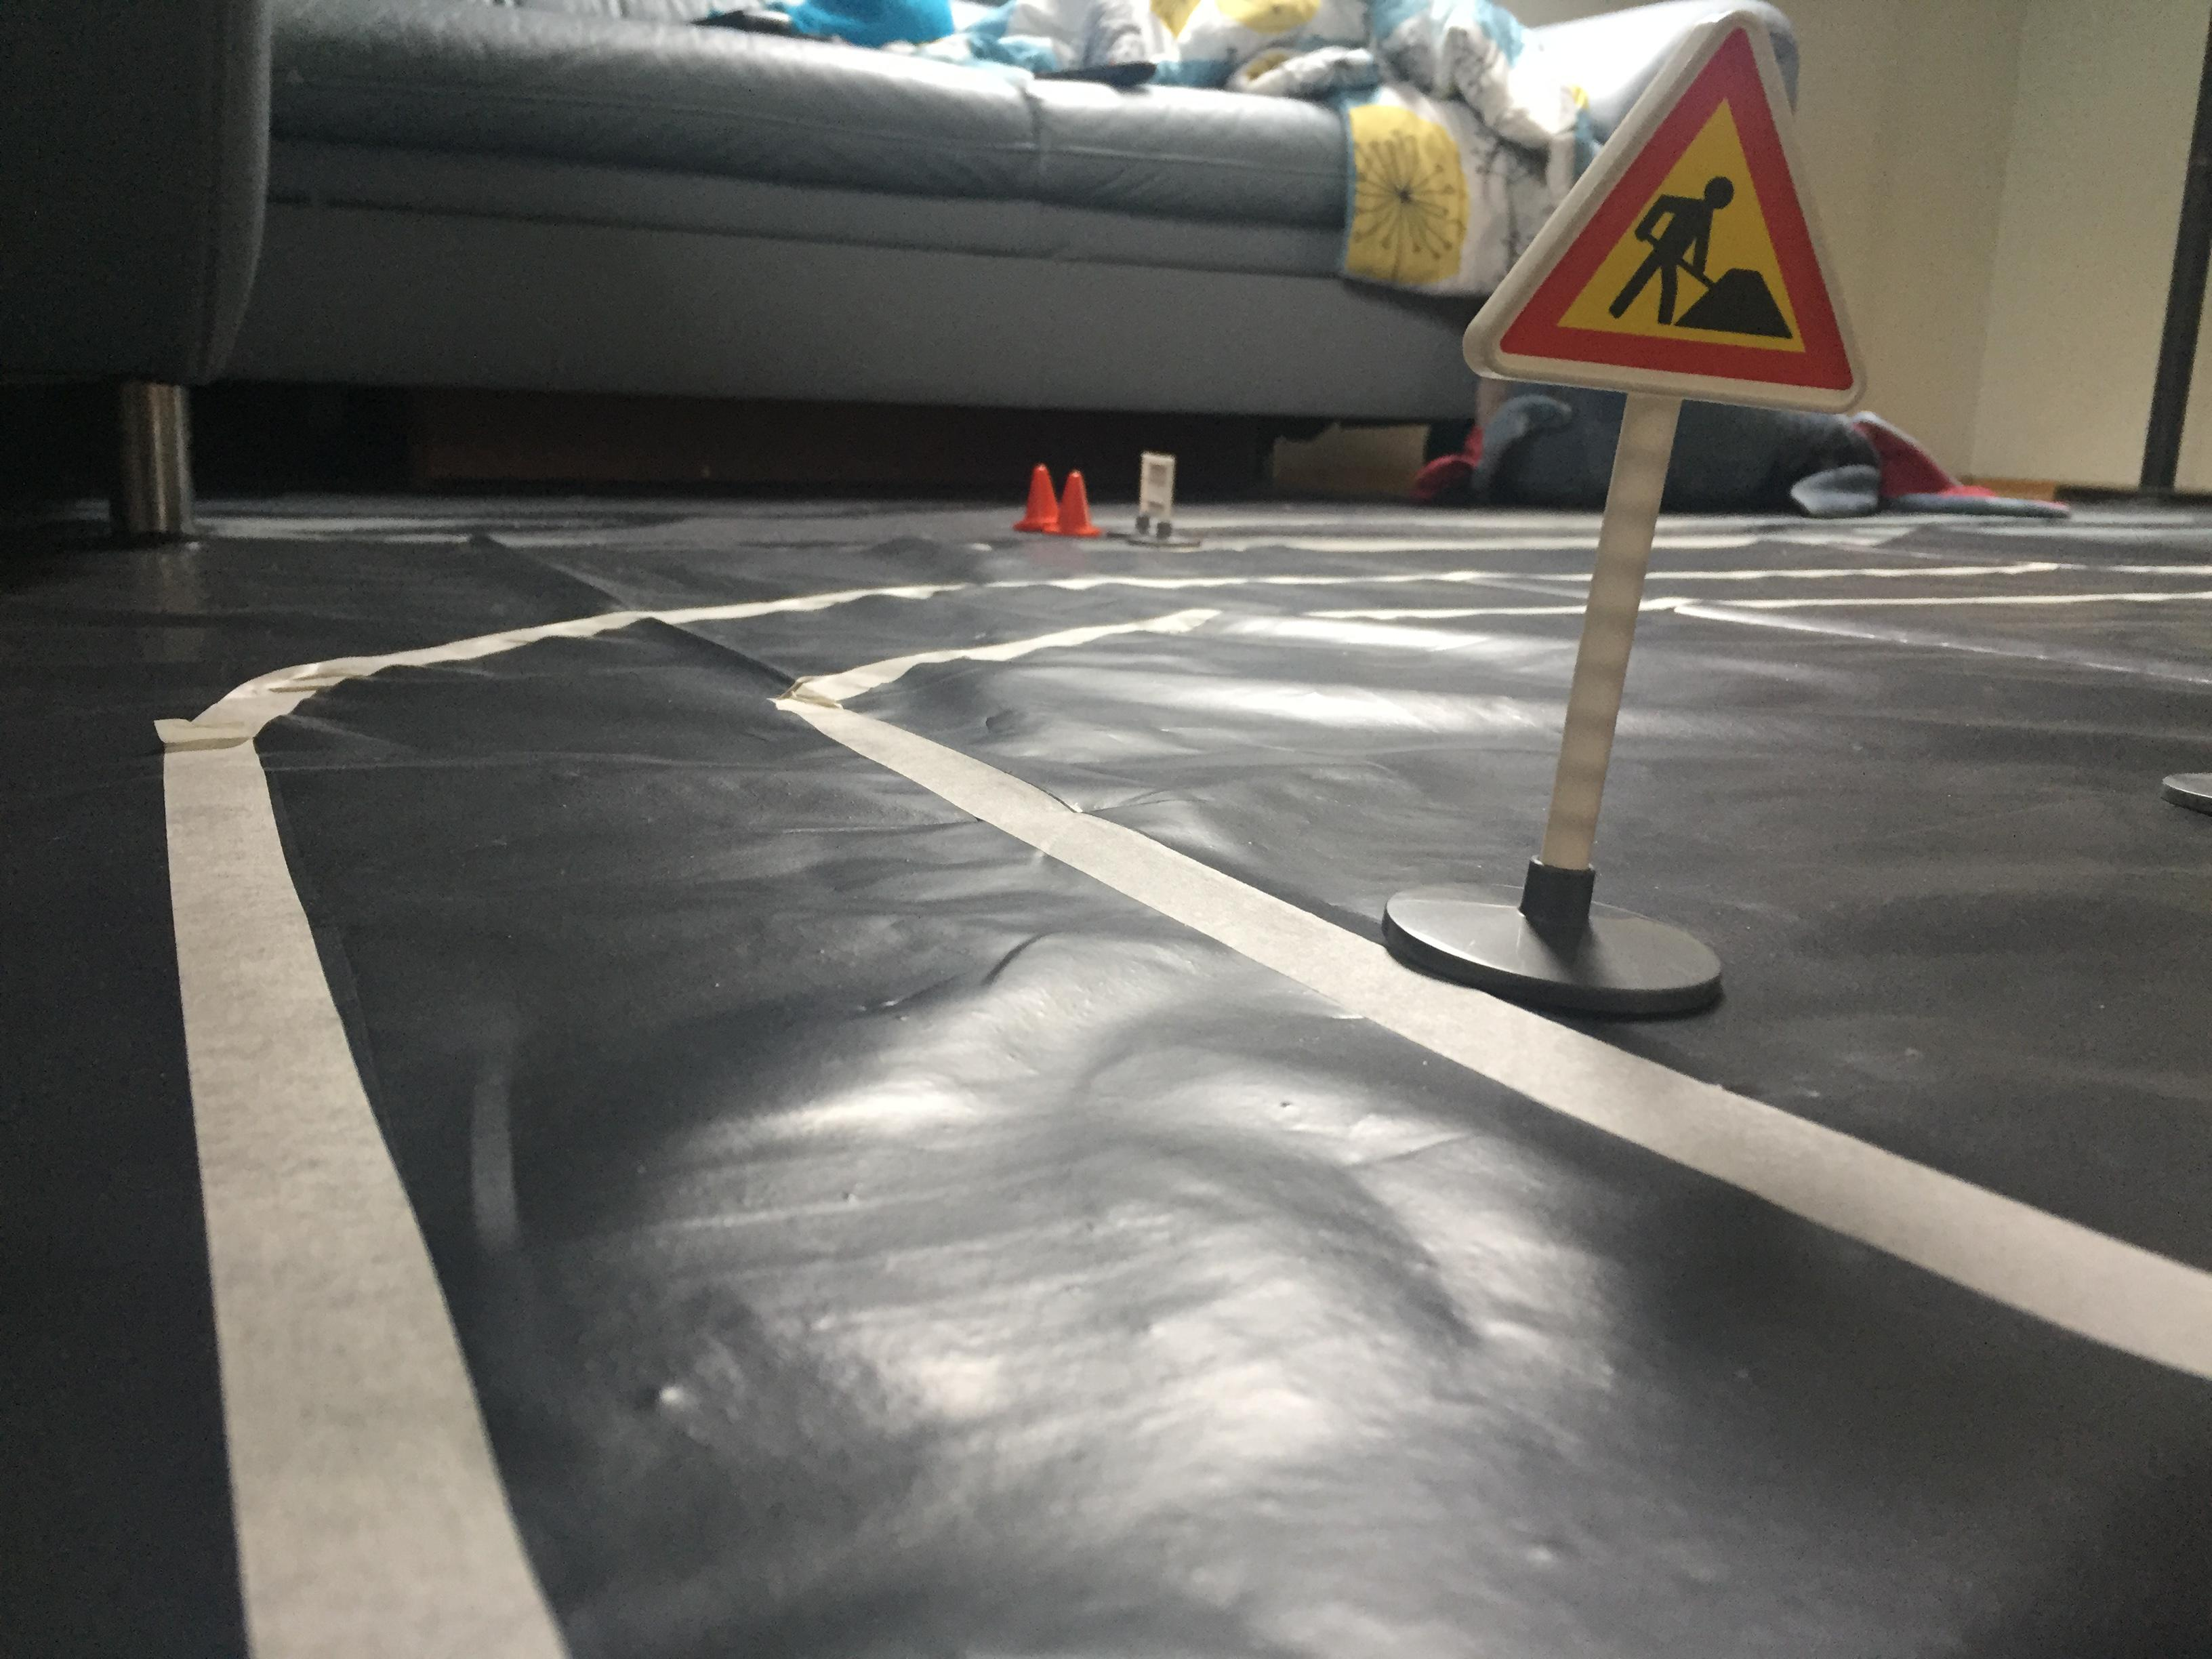work: (1439, 12, 1895, 418)
